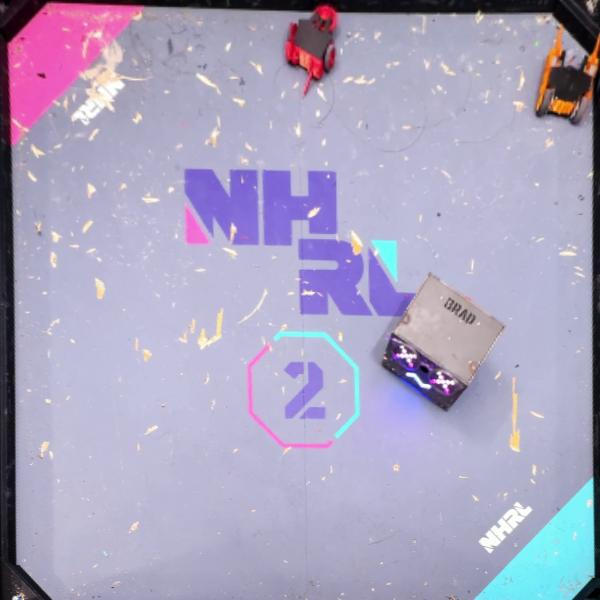housebot: (381, 272, 504, 412)
robot: (535, 24, 600, 126), (285, 1, 337, 94)
